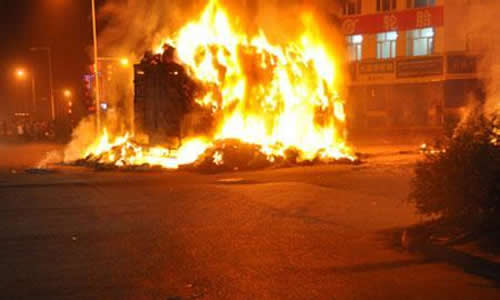fire: (43, 6, 373, 166)
